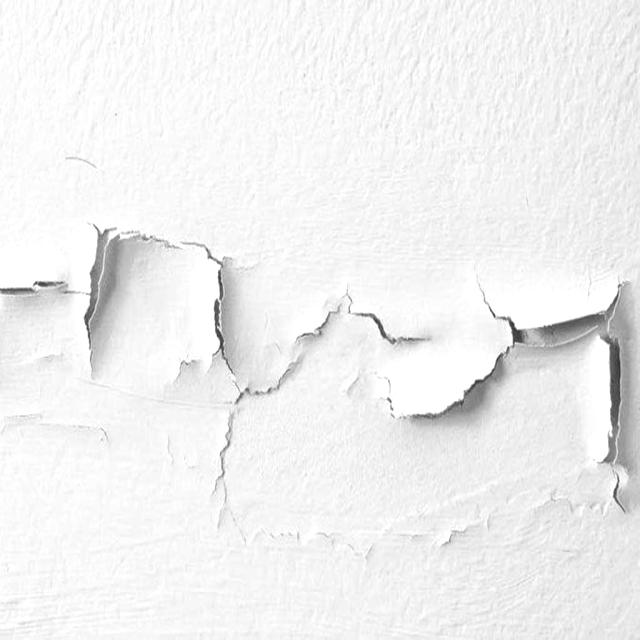peeling paint: (0, 162, 640, 572)
